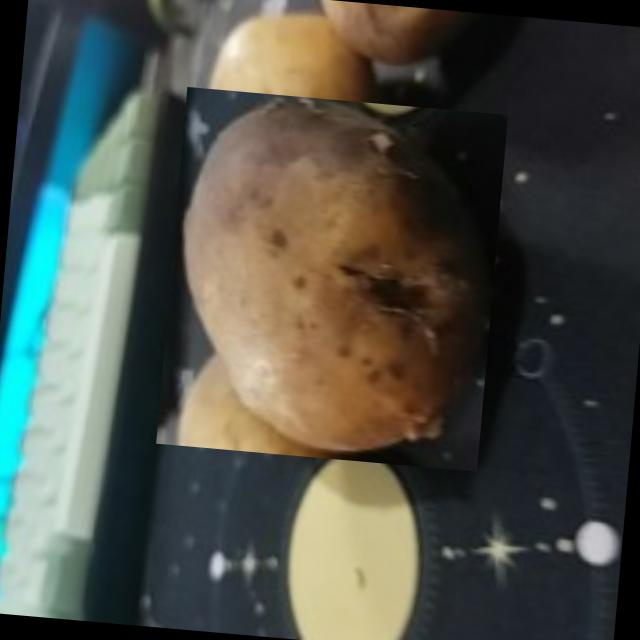Damaged potato: (154, 86, 506, 472)
